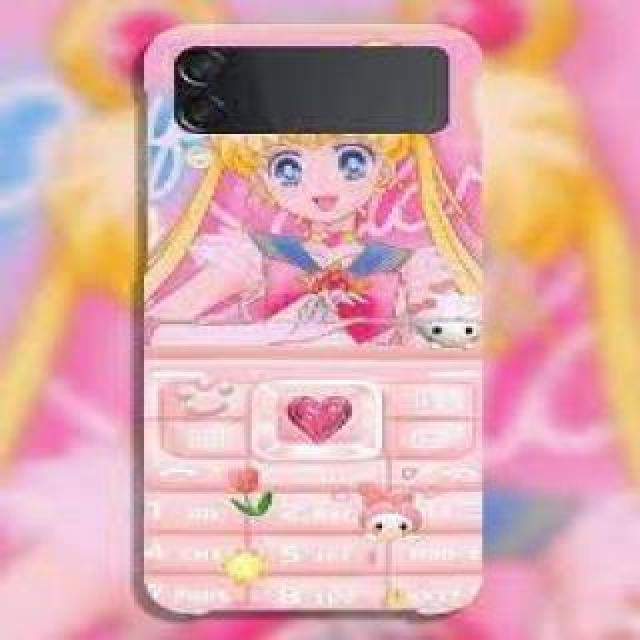smart phone: (118, 0, 526, 638)
